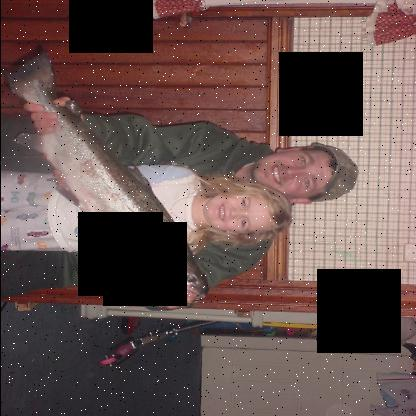fish: (4, 49, 213, 308)
